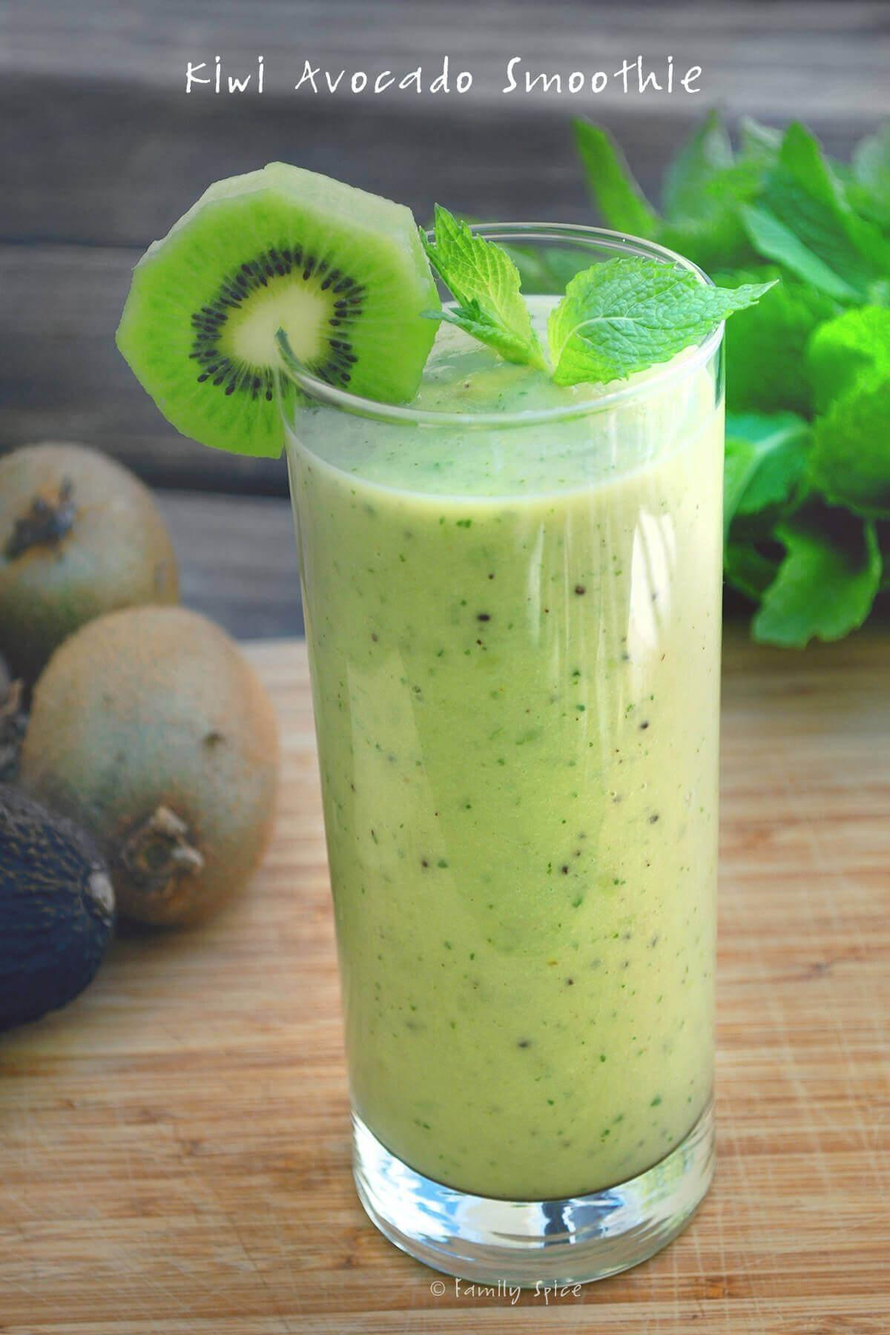glass-normal: (269, 212, 735, 1295)
